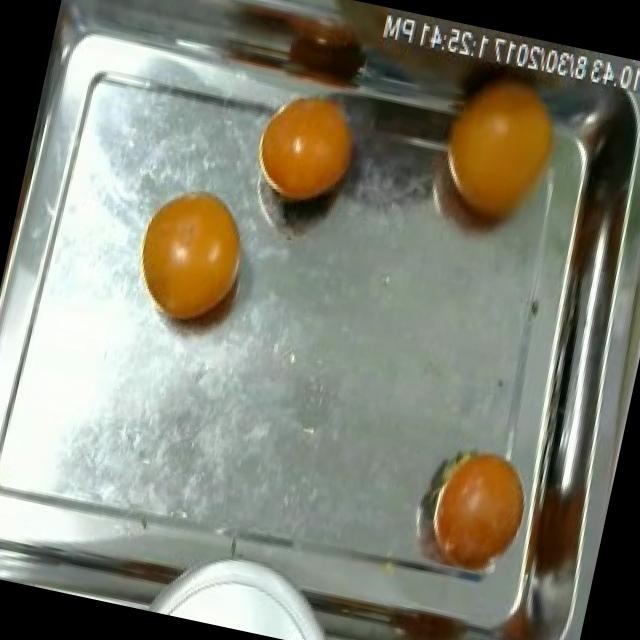Fruit: (412, 44, 588, 264), (119, 170, 267, 347), (400, 425, 540, 591), (236, 74, 379, 230)
